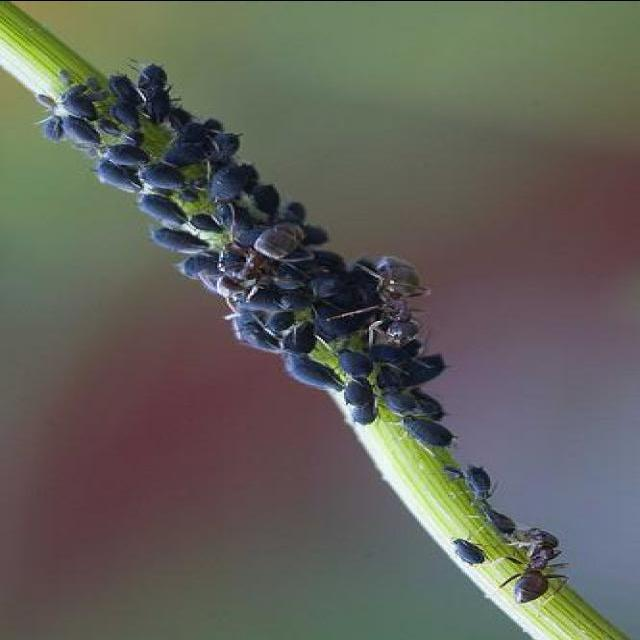aphid: (250, 218, 315, 266), (285, 352, 349, 394), (149, 224, 217, 256), (139, 159, 191, 196), (59, 111, 109, 148), (209, 162, 253, 204), (402, 415, 456, 449), (319, 310, 375, 342), (137, 193, 186, 226), (162, 138, 210, 170), (102, 143, 151, 171), (180, 253, 221, 280), (109, 98, 141, 131), (237, 293, 282, 314)
